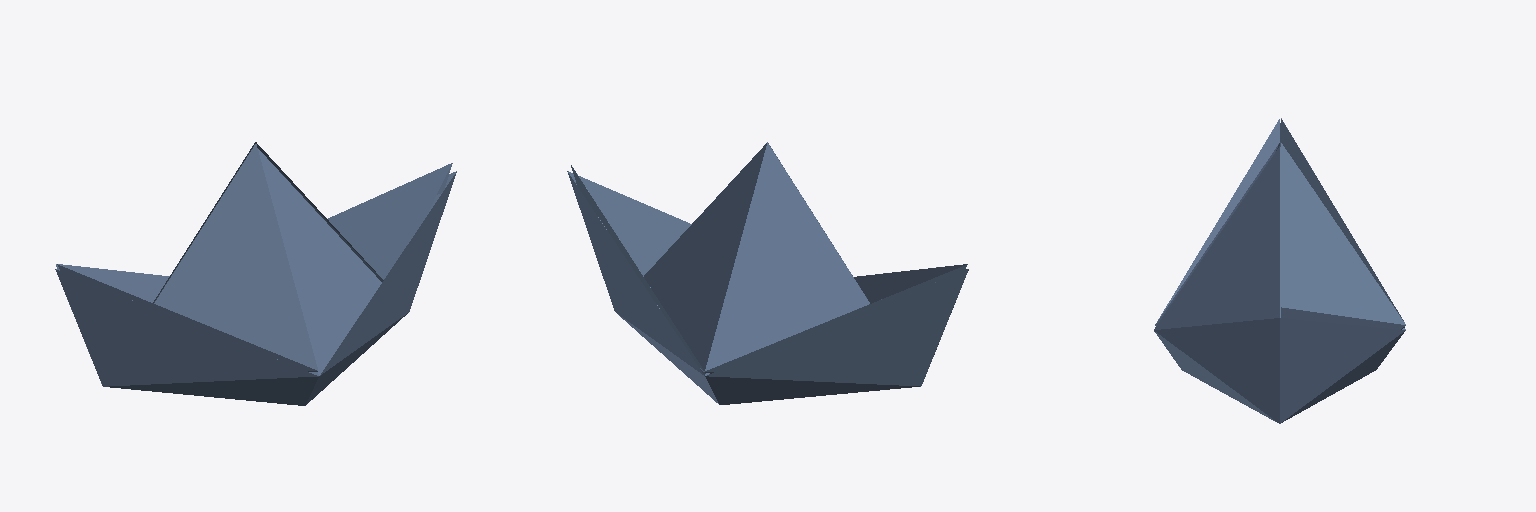
Rendered from stateczek2.obj.
3 views of the same model, side by side, from view 1: azimuth 30°, elevation 25°; view 2: azimuth 150°, elevation 25°; view 3: azimuth 270°, elevation 25° (orthographic).
Parts seen in each view (by area): view 1: Cube_Cube.001; view 2: Cube_Cube.001; view 3: Cube_Cube.001.
Part boxes in pixels (x1,y1,x2,y2): Cube_Cube.001: (55, 142, 456, 405); Cube_Cube.001: (567, 142, 968, 404); Cube_Cube.001: (1154, 118, 1405, 423).
Bounding box in the file's own units: 4.5 × 2.44 × 2.45.